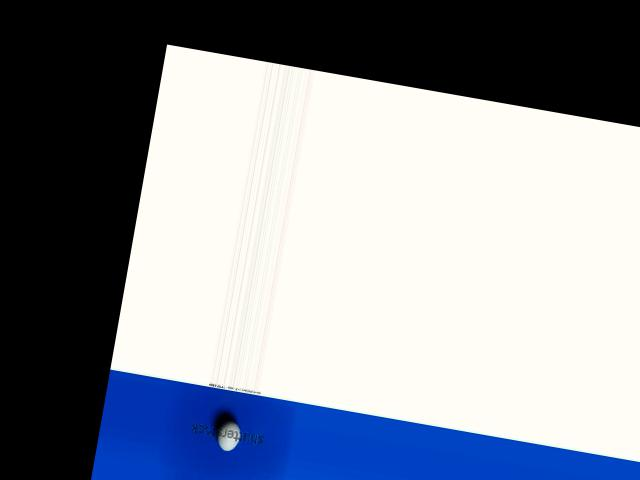egg: (214, 418, 241, 453)
